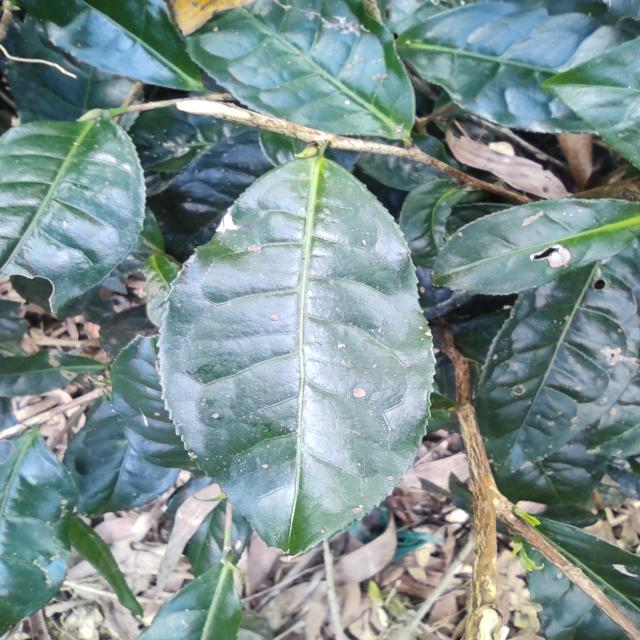Category D(7+ days, Not for Tea): (138, 145, 444, 565)
